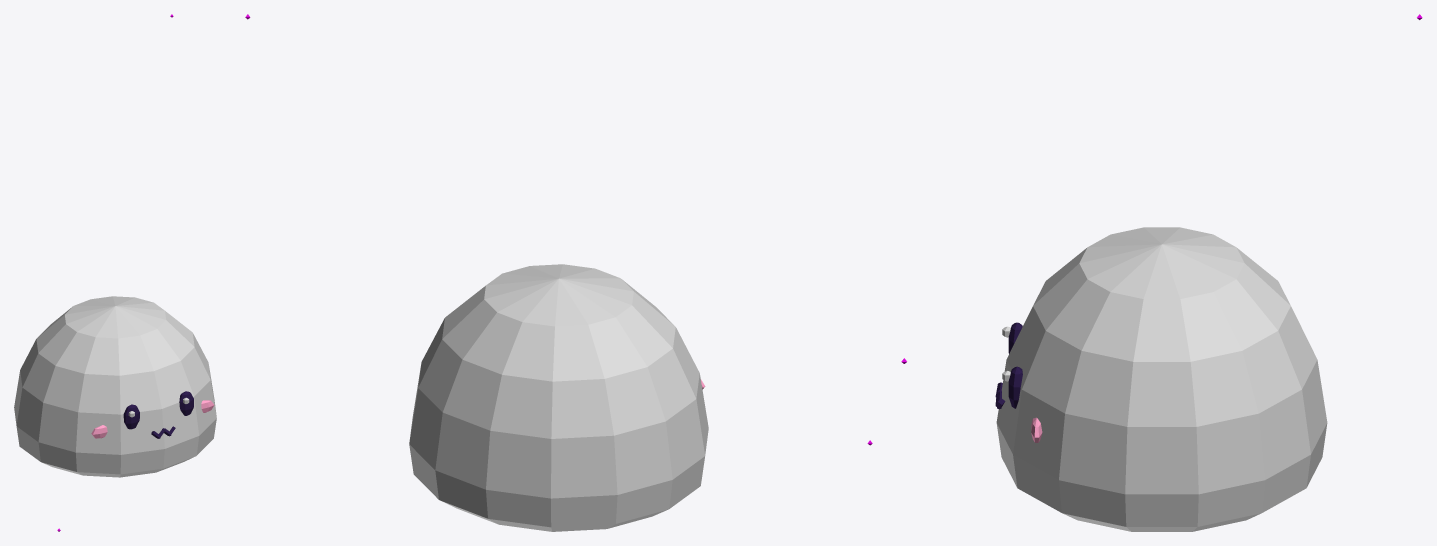
File: body_bun.fbx
The picture shows the model from 3 angles, left to right: view 1: azimuth 30°, elevation 25°; view 2: azimuth 150°, elevation 25°; view 3: azimuth 270°, elevation 25°; orthographic projection. The views are drawn at different scales.
Visible parts, largest first — view 1: Body, Eyes, Blush; view 2: Body; view 3: Body, Eyes.
Part boxes in pixels (x1,y1,x2,y2): Body: [14, 296, 216, 477]; Eyes: [123, 391, 193, 429]; Blush: [91, 400, 214, 438]; Body: [409, 264, 708, 531]; Body: [996, 227, 1327, 531]; Eyes: [1008, 322, 1022, 408].
Bounding box in the file's own units: 2.99 × 3.6 × 2.99.
